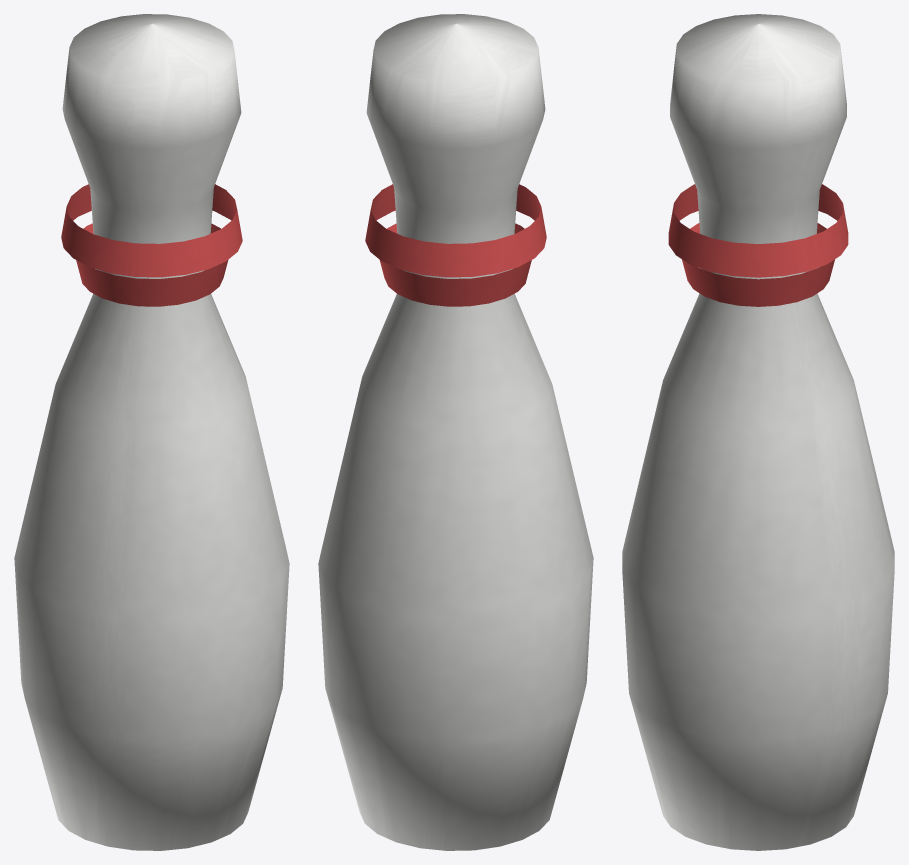
File: pin.glb
The picture shows the model from 3 angles, left to right: view 1: azimuth 30°, elevation 25°; view 2: azimuth 150°, elevation 25°; view 3: azimuth 270°, elevation 25°; orthographic projection.
Visible parts, largest first — view 1: pin_body; view 2: pin_body; view 3: pin_body.
Boxes of the visible parts, left/top/right/bottom form: pin_body: left=14, top=14, right=289, bottom=850; pin_body: left=318, top=14, right=593, bottom=850; pin_body: left=622, top=14, right=894, bottom=850.
Bounding box in the file's own units: 0.2 × 0.63 × 0.198.
Materials: 2 (2 with a texture image).
